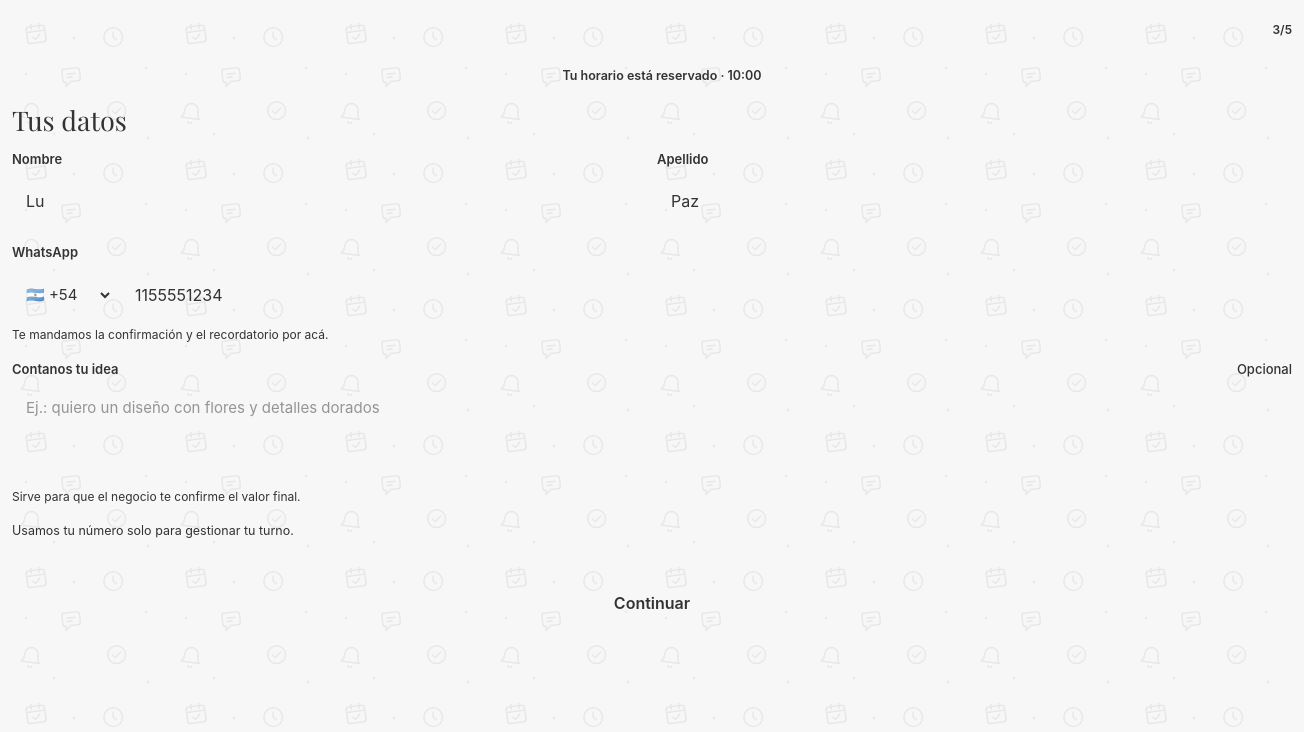
Test case: DatosScreen › retencion del horario › si el servidor dice que el hold vencio al continuar, tambien muestra el aviso y no avanza
Click the button "Continuar". click: (652, 603)
box: [12,577,1292,629]
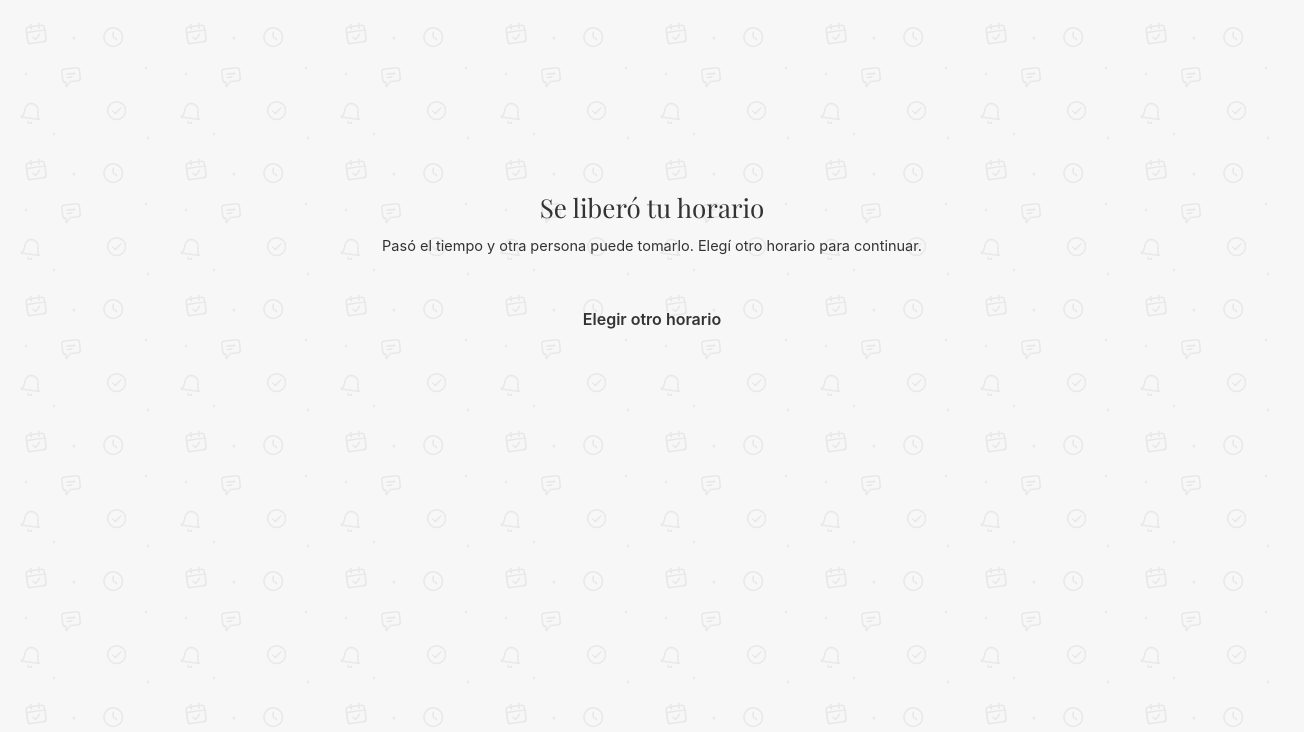
Now the heading "Se liberó tu horario" is shown, box [540,188,764,227]
